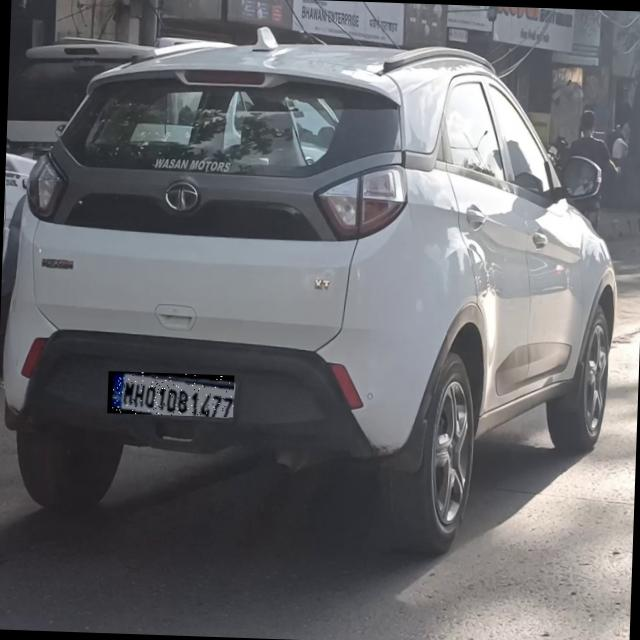Plate: (109, 372, 236, 418)
